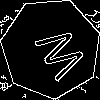W: (26, 23, 89, 88)
